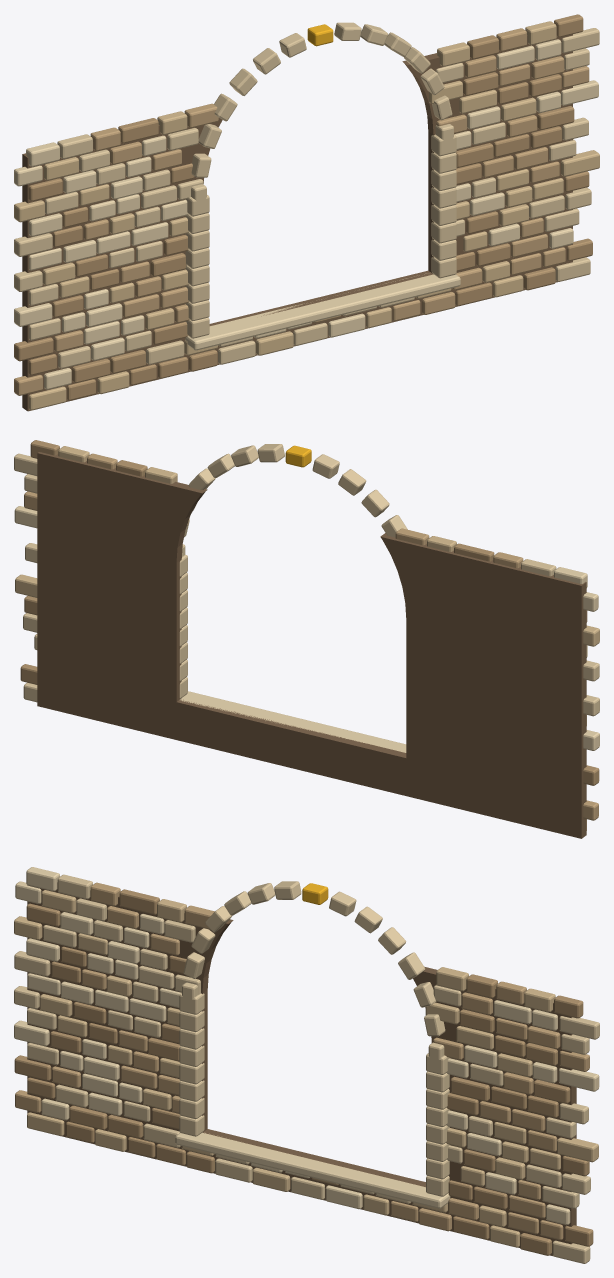
File: backdrop.glb
3 views of the same model, one above another, from view 1: azimuth 30°, elevation 25°; view 2: azimuth 150°, elevation 25°; view 3: azimuth 330°, elevation 25° (orthographic).
Parts seen in each view (by area): view 1: backdrop; view 2: backdrop; view 3: backdrop.
Part boxes in pixels (x1,y1,x2,y2): backdrop: (14, 14, 599, 411); backdrop: (14, 440, 599, 838); backdrop: (14, 867, 599, 1263).
Size of the model in its own units: 19.23 by 9.89 by 0.87.
